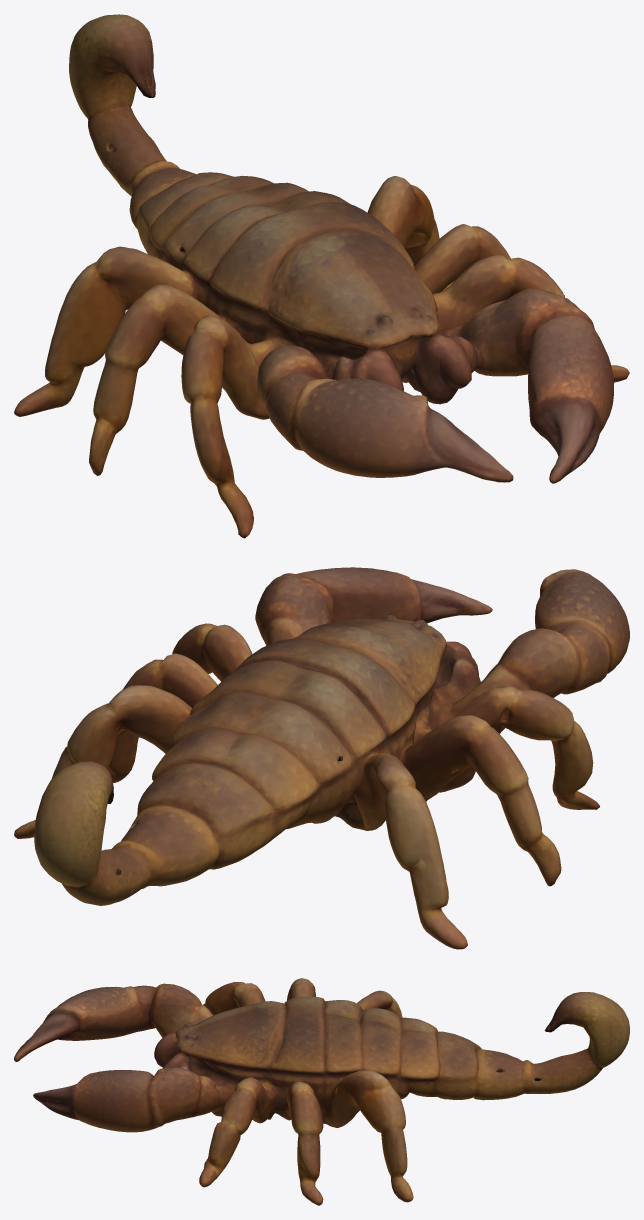
The picture shows the model from 3 angles, top to bottom: view 1: azimuth 30°, elevation 25°; view 2: azimuth 150°, elevation 25°; view 3: azimuth 270°, elevation 25°; orthographic projection. The views are drawn at different scales.
Parts seen in each view (by area): view 1: world; view 2: world; view 3: world.
Boxes of the visible parts, box(x1,y1,x2,y2) form: world: box(14, 14, 629, 538); world: box(14, 567, 629, 949); world: box(14, 978, 629, 1205).
Bounding box in the file's own units: 0.0381 × 0.0176 × 0.065.
Materials: 1 (1 with a texture image).
